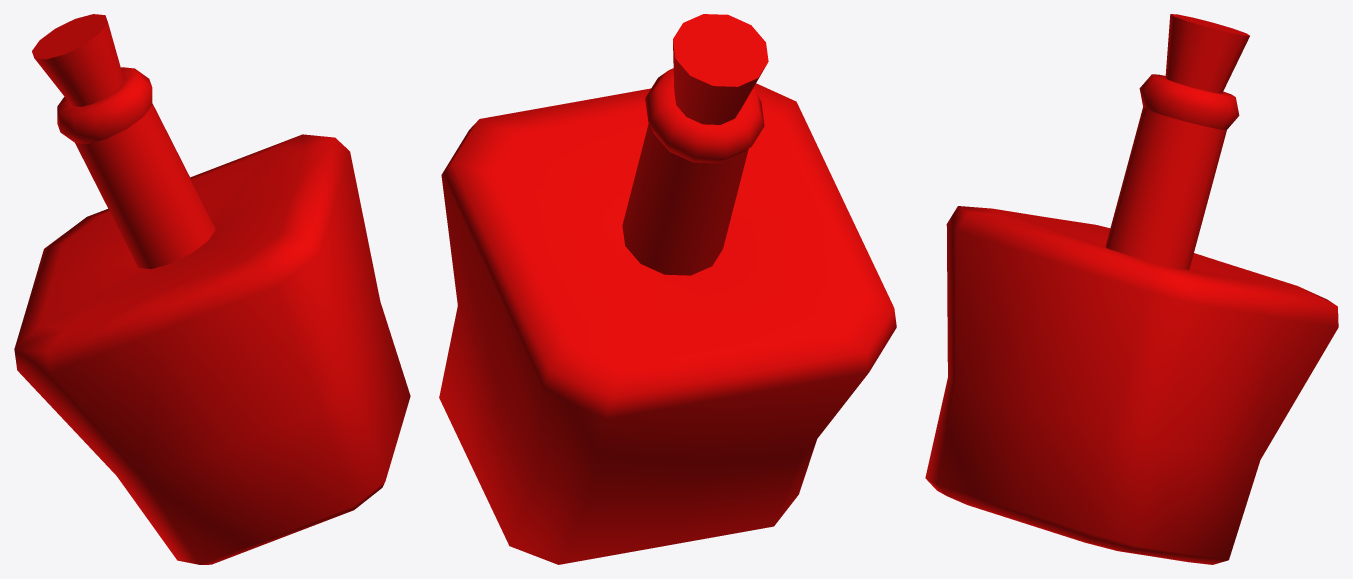
The model's file is Potions_06.fbx.
3 renders of one model, left to right at view 1: azimuth 30°, elevation 25°; view 2: azimuth 150°, elevation 25°; view 3: azimuth 270°, elevation 25°, orthographic. The views are drawn at different scales.
Parts seen in each view (by area): view 1: Potion_06; view 2: Potion_06; view 3: Potion_06.
Boxes of the visible parts, left/top/right/bottom form: Potion_06: left=14, top=14, right=410, bottom=564; Potion_06: left=439, top=14, right=896, bottom=564; Potion_06: left=925, top=14, right=1338, bottom=564.
Bounding box in the file's own units: 0.3931 × 0.387 × 0.5002.
